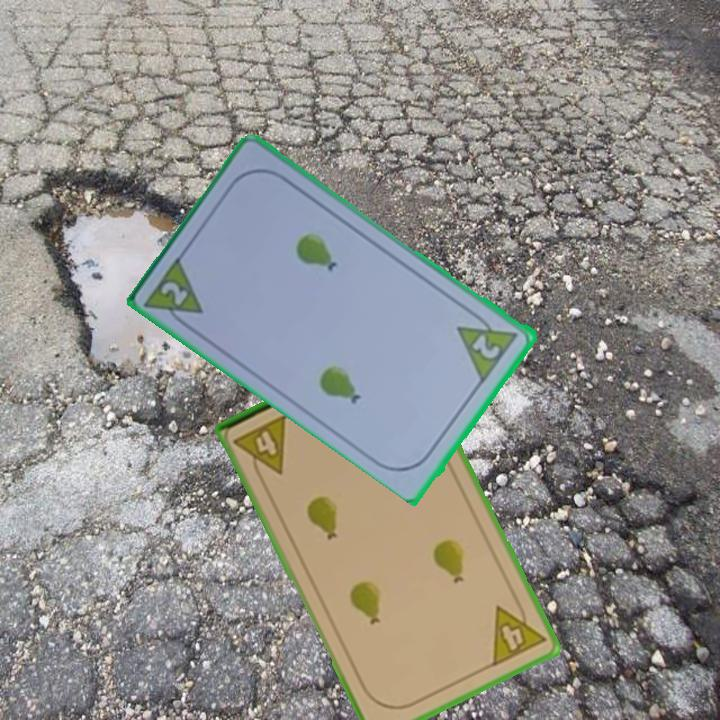2p: (142, 251, 208, 334), (453, 306, 522, 384)
4p: (488, 593, 549, 670), (230, 411, 291, 485)
